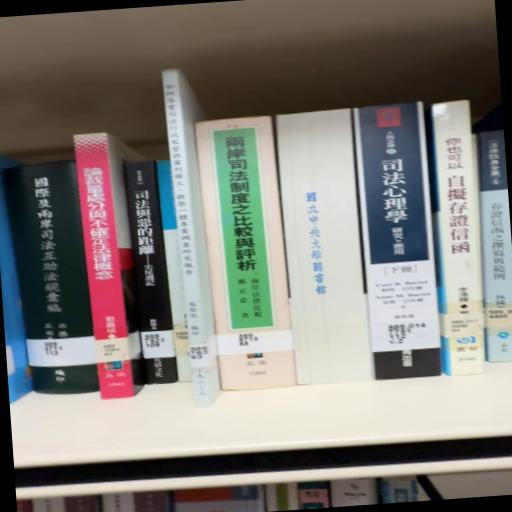backward: (276, 109, 373, 385)
book: (6, 157, 96, 396), (425, 98, 493, 380), (76, 132, 138, 396), (122, 158, 177, 394), (469, 124, 512, 369)
